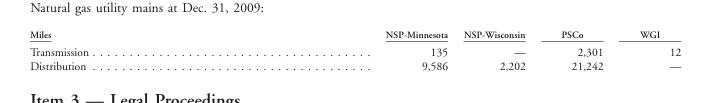table: (29, 28, 680, 72)
table column: (236, 28, 455, 72), (29, 28, 236, 72), (455, 28, 542, 72), (542, 28, 620, 72), (620, 28, 680, 72)
table column header: (29, 28, 680, 42)
table row: (29, 42, 680, 58), (29, 28, 680, 42), (29, 58, 680, 72)
